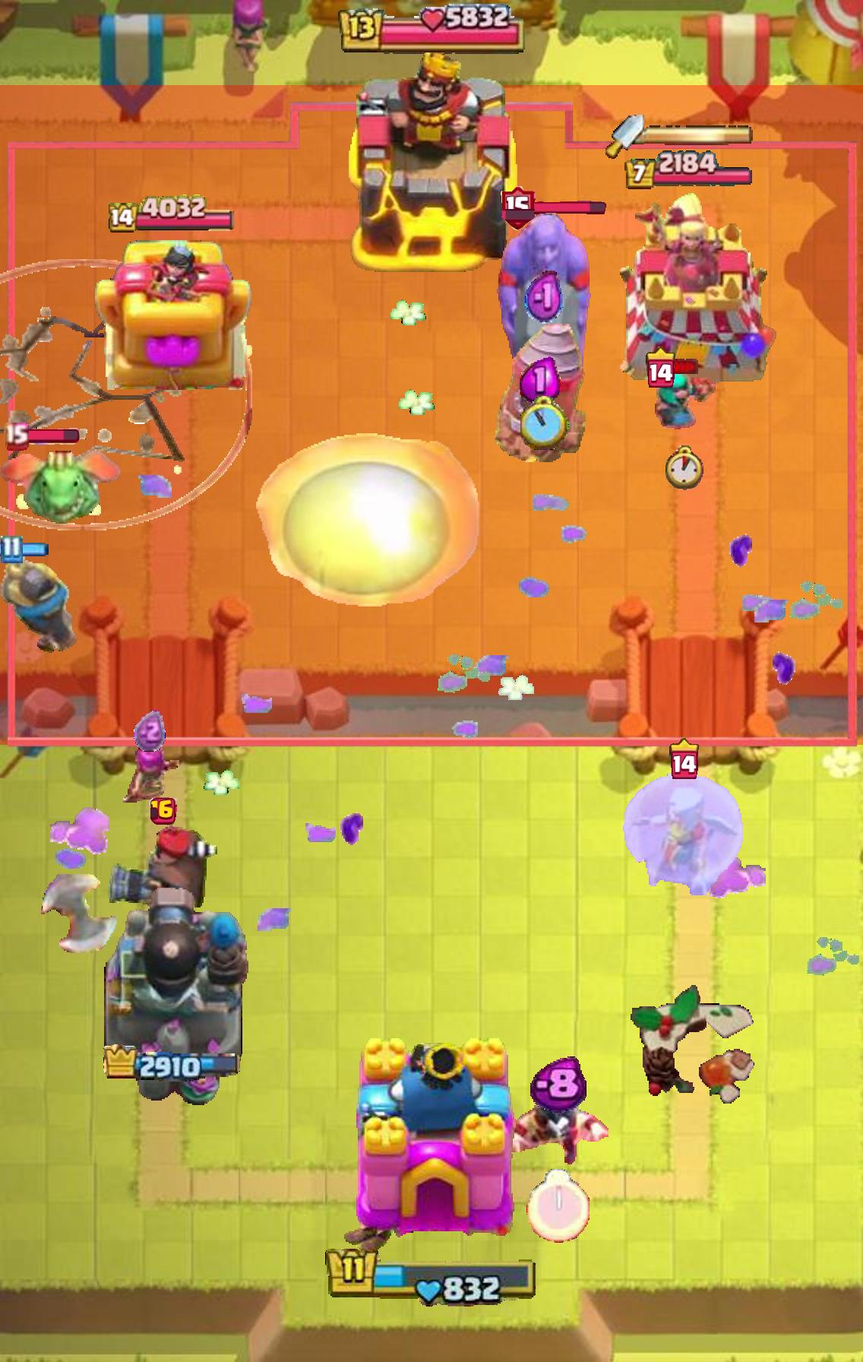bar: (532, 201, 606, 215), (25, 428, 80, 445), (672, 358, 700, 376)
bar-level: (501, 186, 536, 230), (646, 347, 676, 388), (669, 738, 699, 779), (150, 798, 178, 826), (3, 422, 29, 451)
